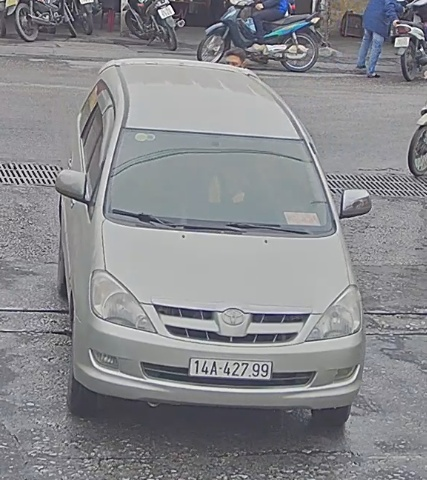vehicle plate: (184, 351, 276, 387)
